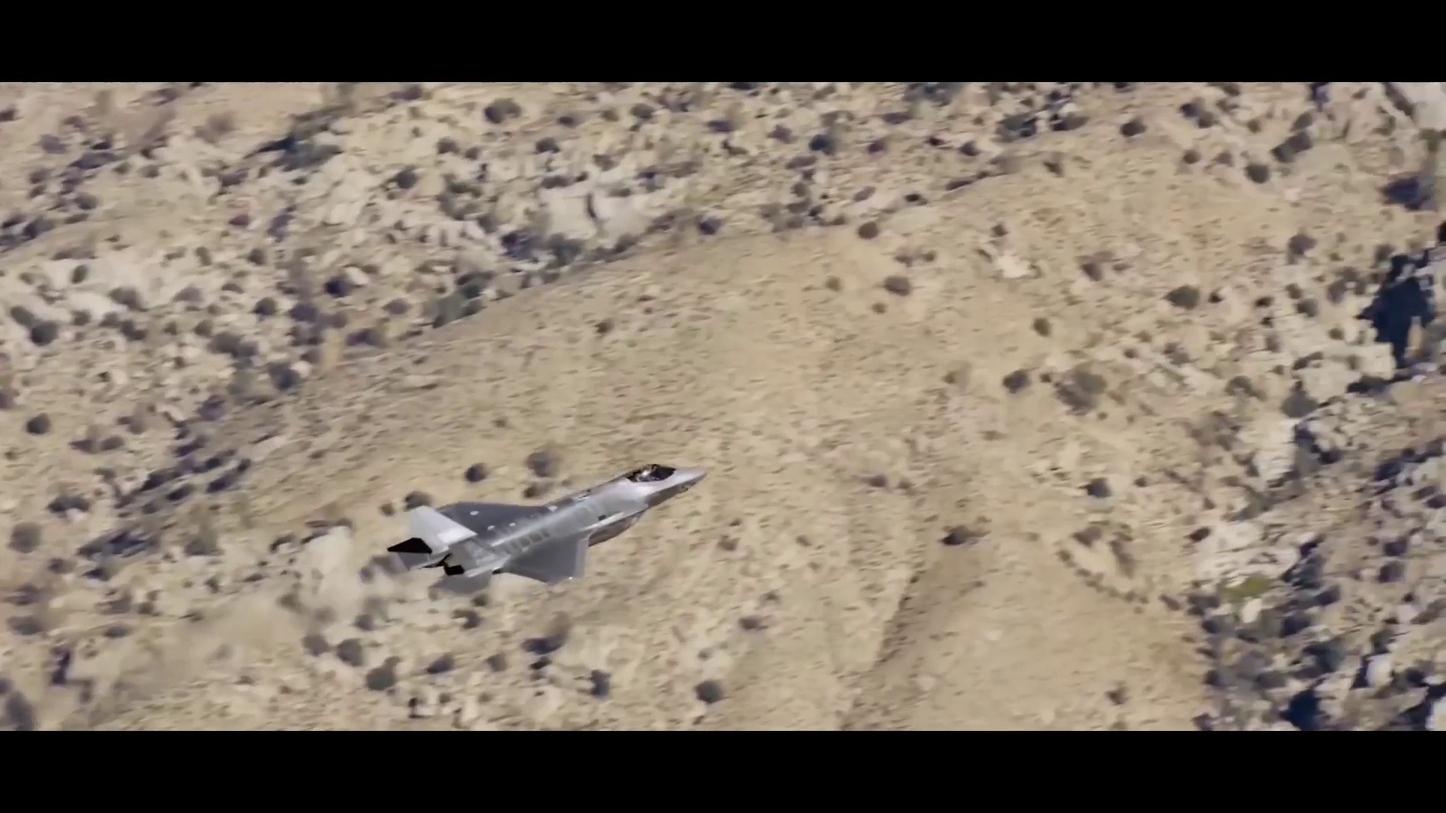F35: (382, 457, 713, 585)
